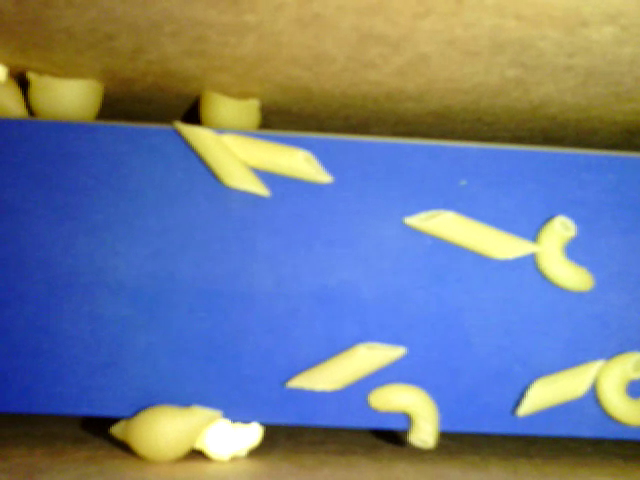elbow: (532, 214, 595, 295), (369, 383, 440, 449), (597, 349, 639, 426)
penne: (169, 121, 274, 199), (405, 209, 547, 261), (284, 341, 410, 393), (216, 131, 332, 185), (514, 356, 607, 419)
shell: (109, 403, 224, 463), (26, 71, 102, 124), (198, 88, 261, 130)
